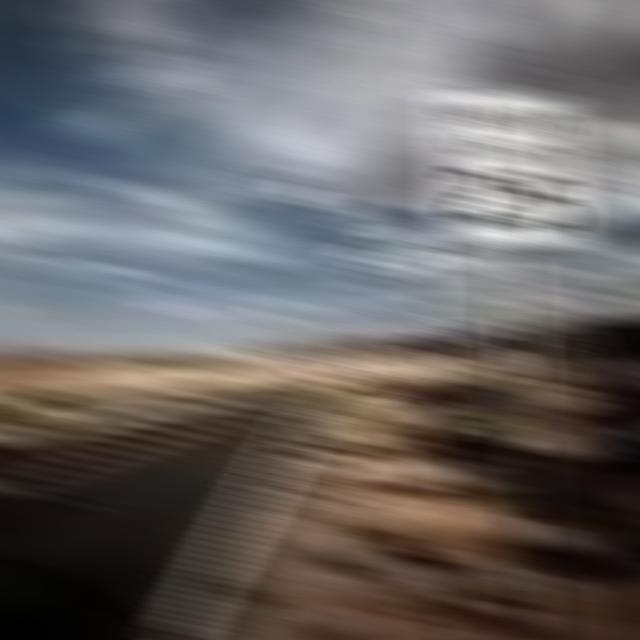speedLimit25: (431, 88, 580, 245)
